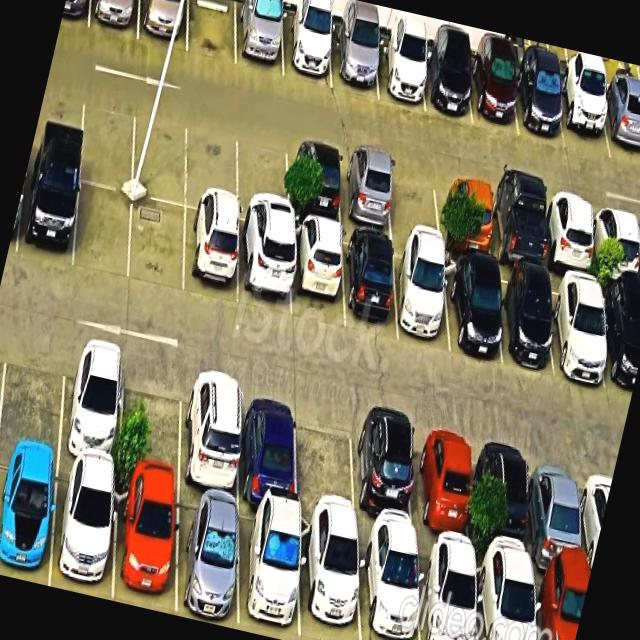car: (50, 460, 115, 598), (58, 337, 124, 471), (175, 488, 238, 627), (114, 474, 176, 612), (352, 407, 416, 540), (238, 503, 299, 640), (180, 366, 241, 500), (0, 448, 58, 585), (414, 418, 471, 554), (239, 380, 296, 511), (300, 516, 360, 640), (530, 444, 586, 576), (358, 532, 420, 640), (548, 273, 607, 386), (482, 432, 532, 565), (16, 164, 79, 268), (492, 266, 553, 371), (443, 256, 501, 364), (393, 242, 449, 352), (417, 542, 478, 640), (343, 230, 397, 337), (291, 219, 343, 328), (475, 554, 536, 640), (183, 208, 237, 305), (489, 181, 545, 271), (238, 222, 290, 318), (287, 138, 341, 225), (599, 284, 640, 398), (439, 170, 492, 257), (556, 75, 610, 158), (340, 148, 392, 234), (544, 192, 595, 277), (532, 566, 590, 640), (591, 201, 640, 286), (515, 63, 564, 147), (470, 53, 518, 134), (421, 46, 471, 123), (282, 10, 331, 87), (375, 35, 424, 111), (236, 0, 283, 77), (598, 84, 640, 165), (331, 25, 377, 97), (137, 0, 188, 51), (88, 0, 139, 39)
free: (0, 325, 66, 455), (119, 352, 183, 486), (297, 395, 356, 527), (132, 102, 189, 206), (73, 182, 132, 280), (79, 89, 135, 191), (129, 195, 185, 295), (185, 115, 237, 217), (237, 126, 287, 230), (387, 158, 441, 243), (187, 0, 235, 64)
